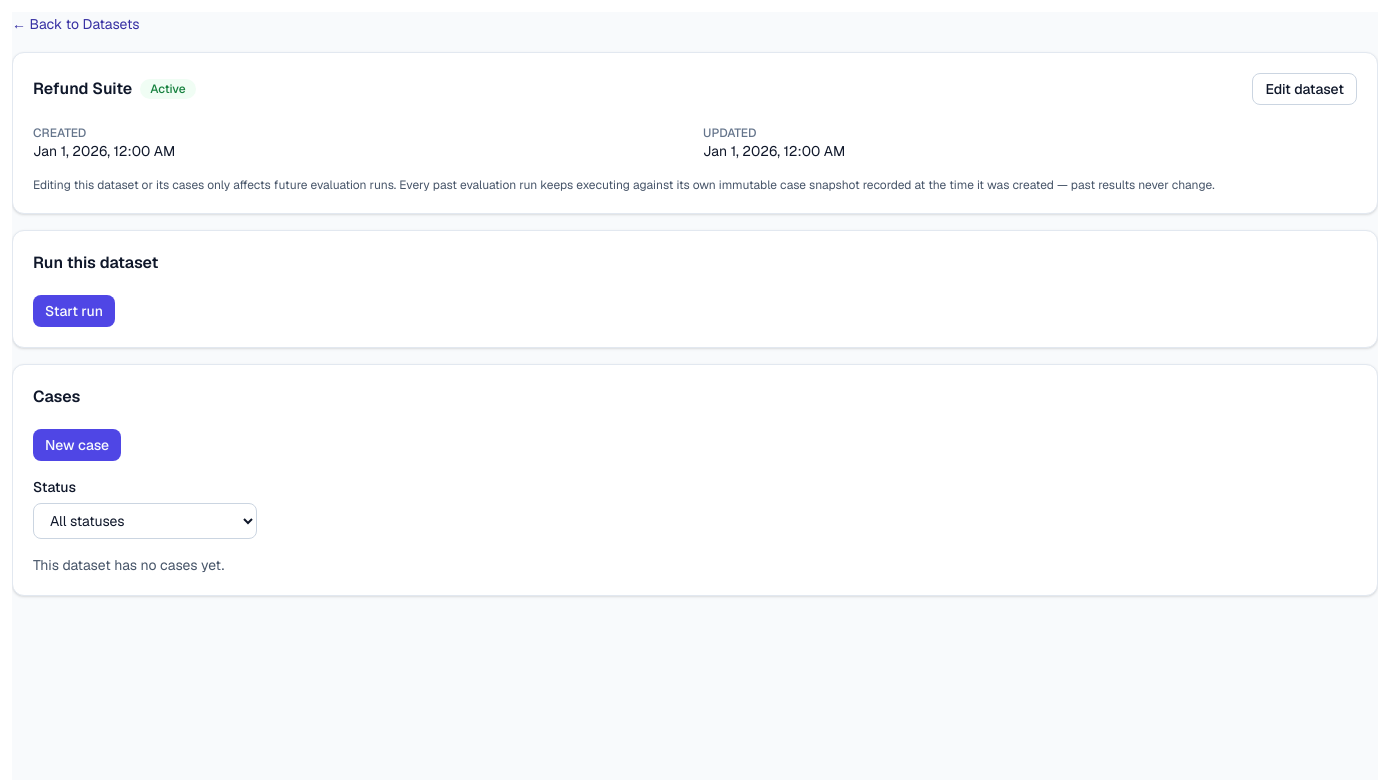
Scenario: Start Evaluation Run (Phase 23 Chunk 3) › shows the real server rejection (e.g. no active cases) rather than a fabricated success
expect the heading "Refund Suite" is shown: met, box [33,77,132,101]
Click the button "Start run" at (74, 311), box [33,295,115,327]
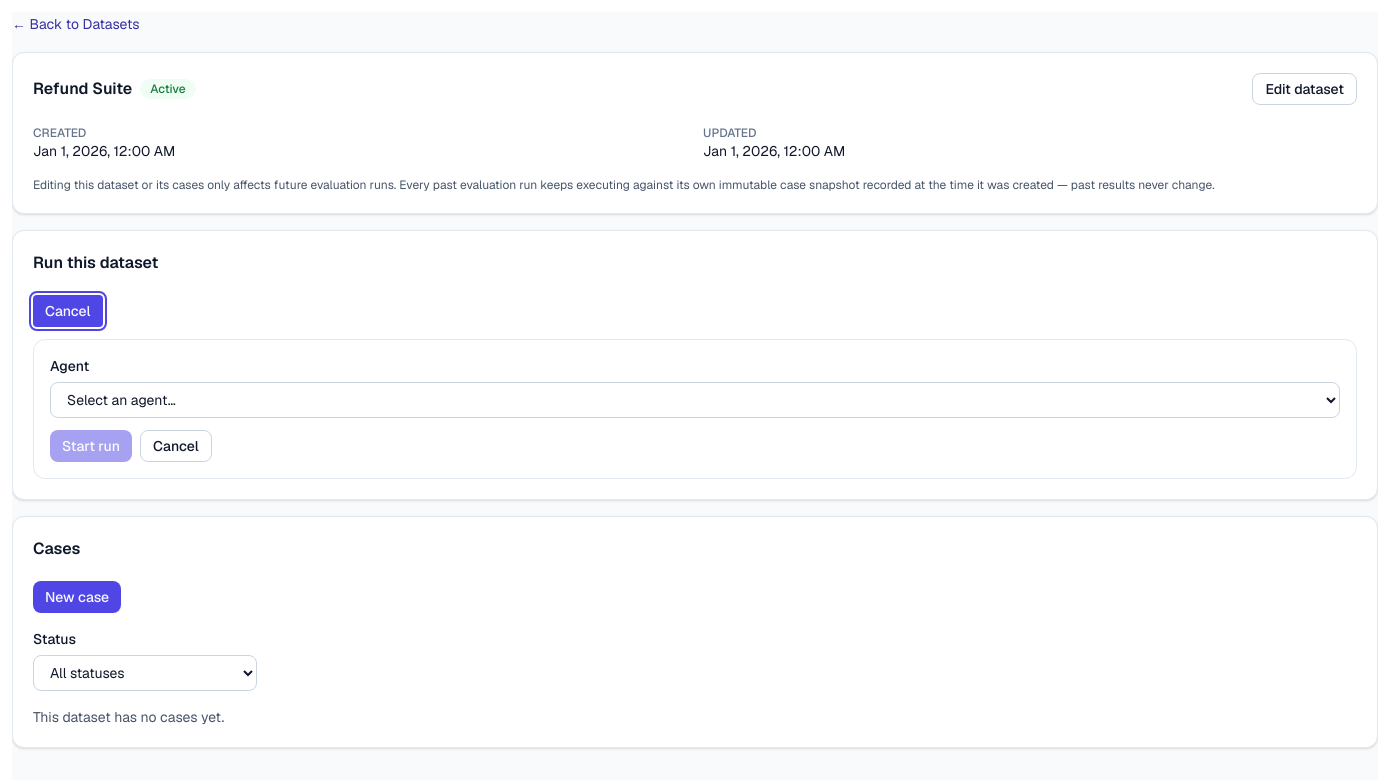
Select "Support Agent" in the dropdown labelled "Agent" at (695, 400), box [50,382,1340,418]
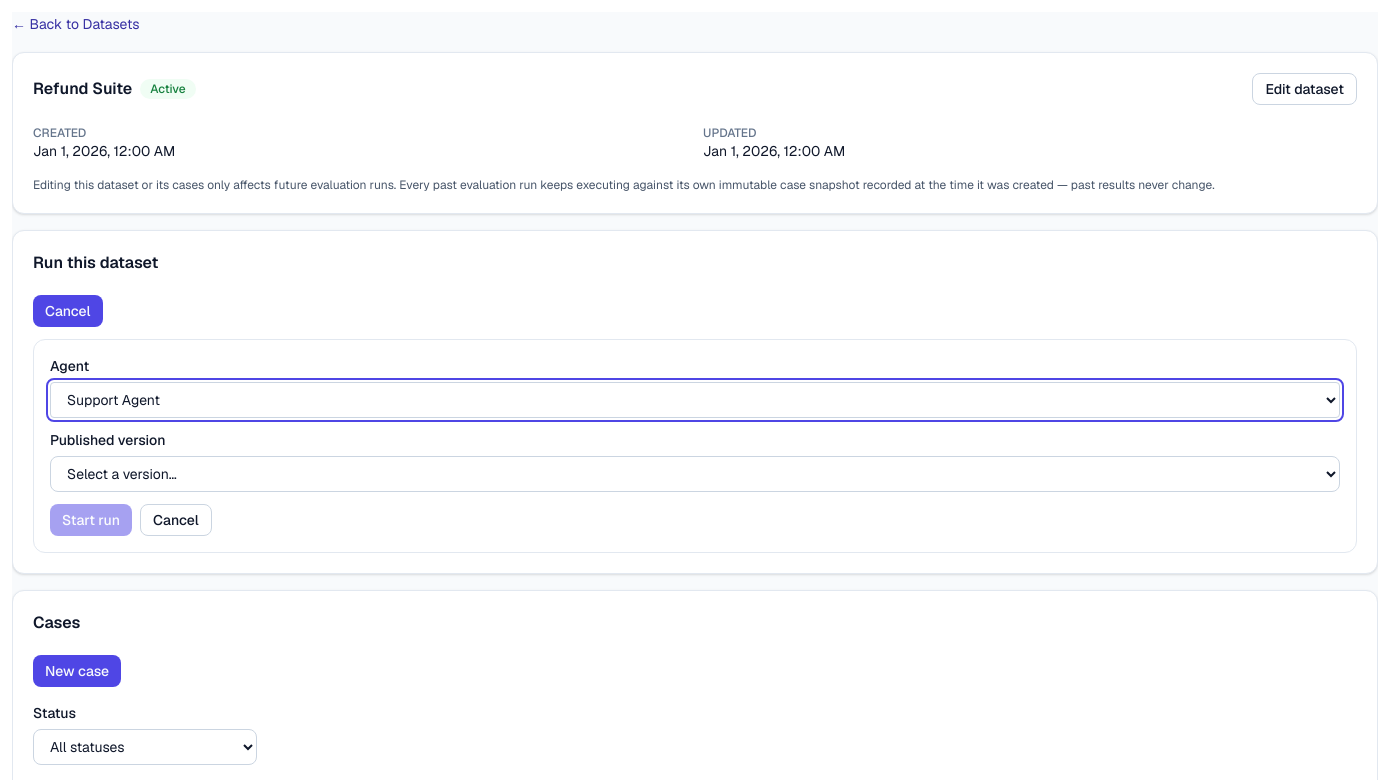
Select "v1" in the dropdown labelled "Published version" at (695, 474), box [50,456,1340,492]
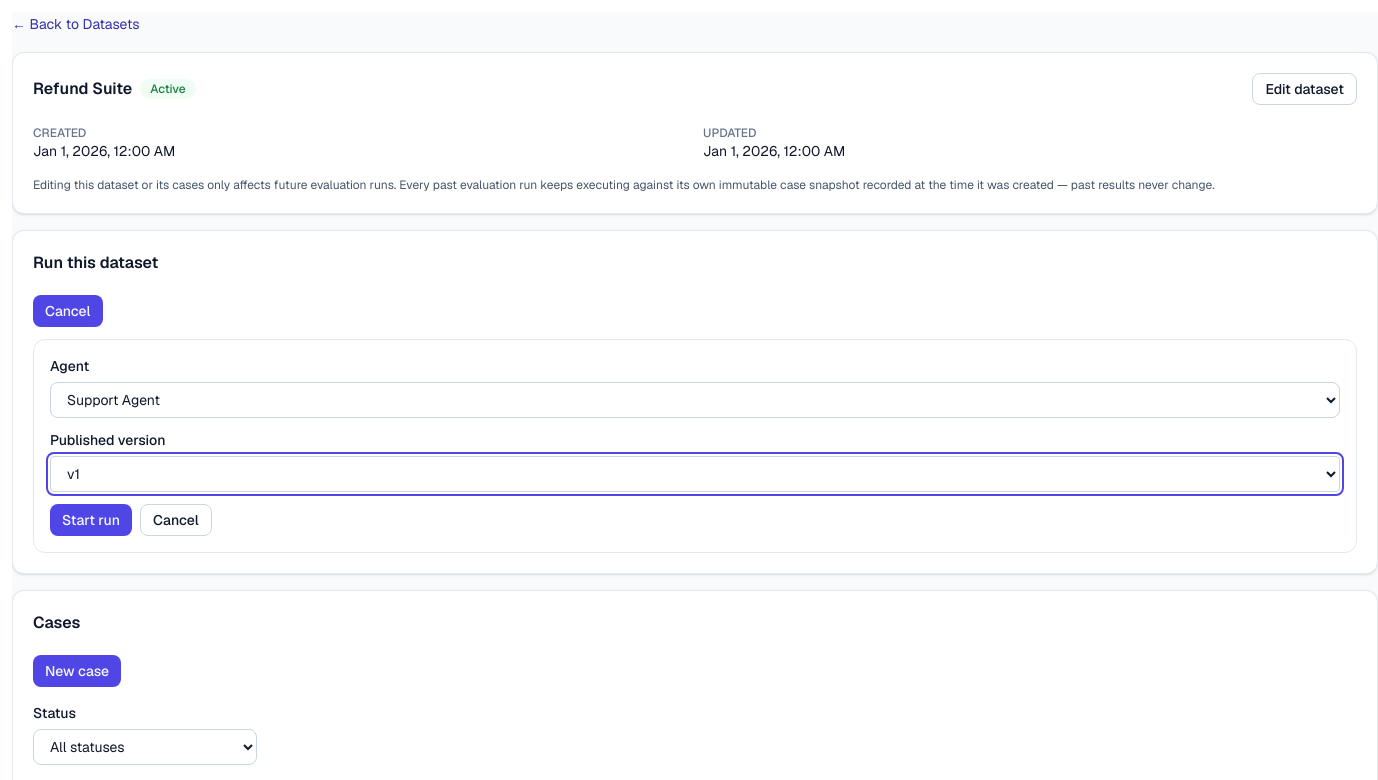
Click the button "Start run" at (91, 520), box [50,504,132,536]
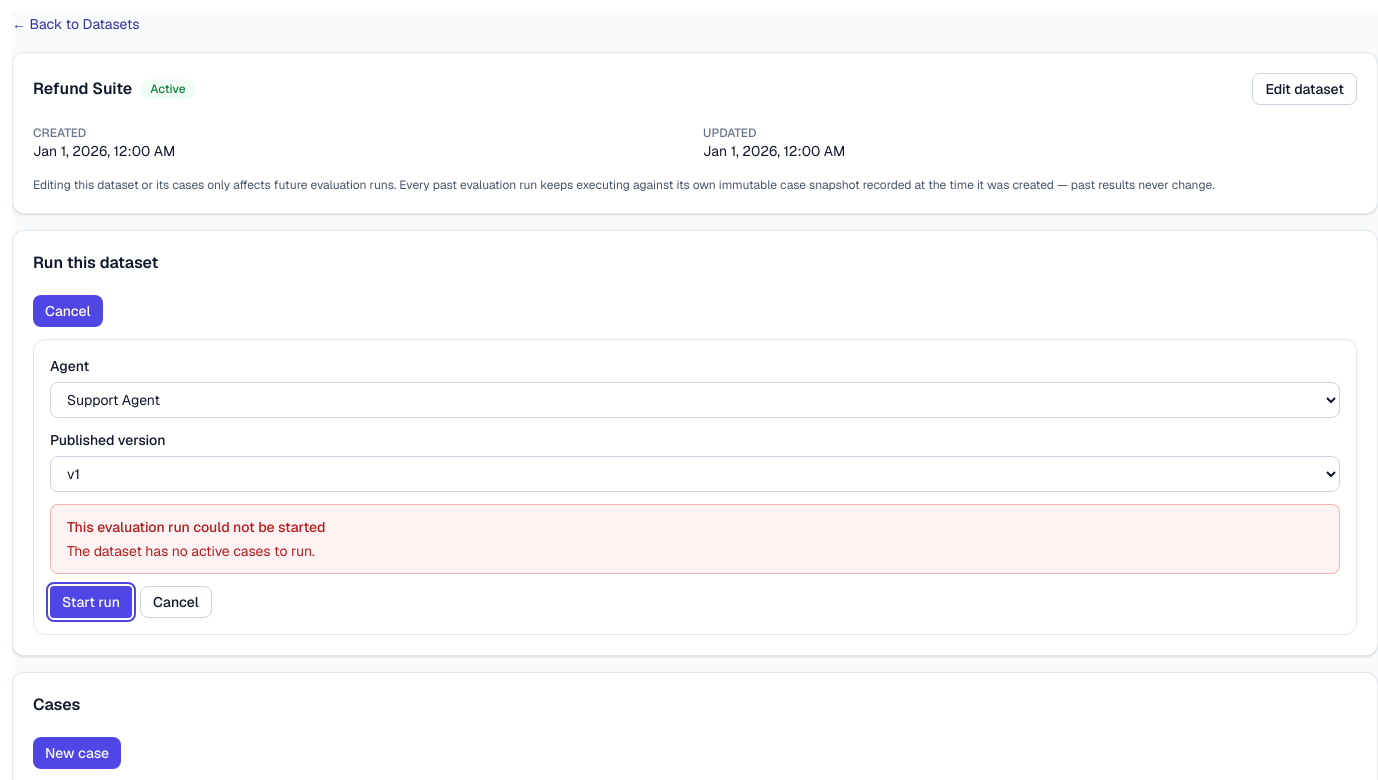
expect the text "The dataset has no active cases to run." is shown: met, box [67,542,315,560]
